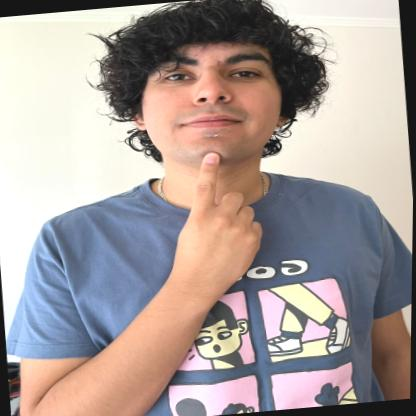T: (172, 143, 272, 286)
